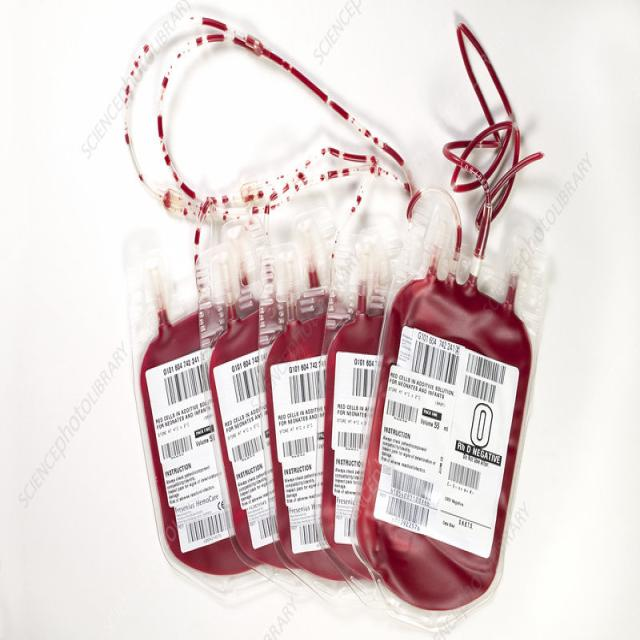B3: (363, 233, 533, 623)
